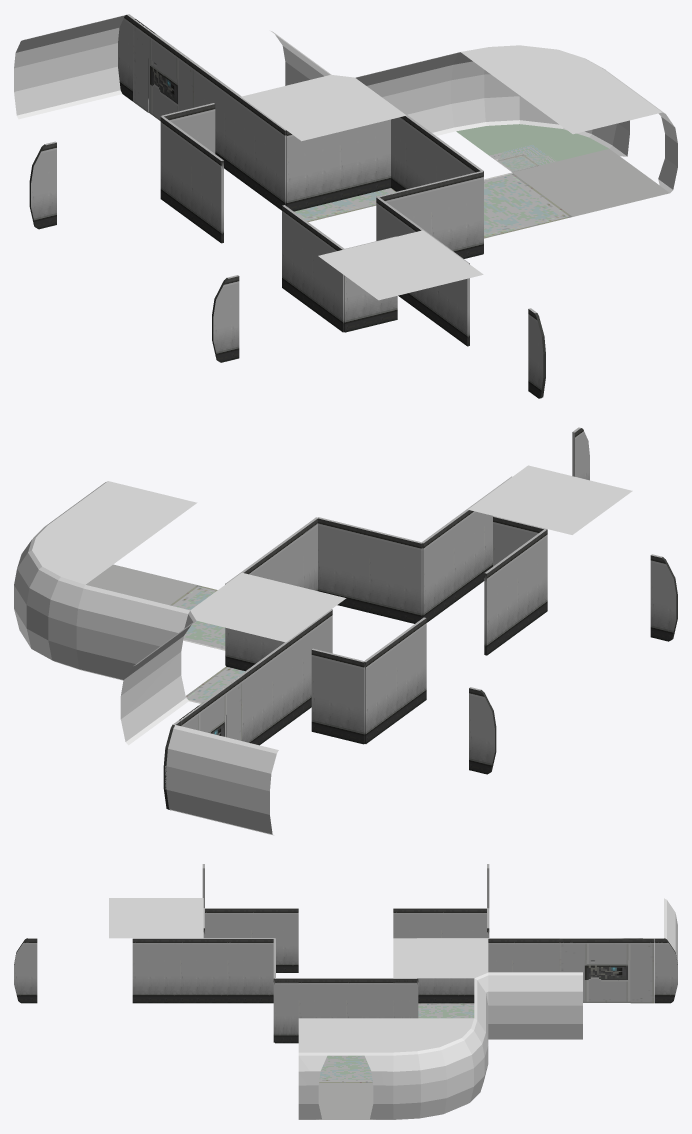
The model's file is works.glb.
3 renders of one model, top to bottom at view 1: azimuth 30°, elevation 25°; view 2: azimuth 150°, elevation 25°; view 3: azimuth 270°, elevation 25°, orthographic. The views are drawn at different scales.
Parts seen in each view (by area): view 1: WallOuter, Roof4x4, RoofWallOuterCorner, FloorWallOuter, Wall Outer Corner, RoofWallOuter, Wall Outer Bend, Wall Inner Door, FloorWallOuterBend, Wall Inner2.010, Wall Inner2.002, RoofWallOuterBend (+24 smaller); view 2: Wall Outer Corner, WallOuter, Roof4x4, RoofWallOuterCorner, Wall Outer Bend, RoofWallOuter, Wall Inner2.012, Wall Inner2.003, Wall Inner2.010, RoofWallOuterBend, Wall Inner2.015, Wall Inner2.019 (+18 smaller); view 3: Wall Outer Corner, Wall Outer Bend, Wall Inner Door, Roof4x4, RoofWallOuterCorner, RoofWallOuter, Wall Outer Open, Wall Inner2.005, Wall Inner2.006, Wall Inner2.004, RoofWallOuterBend, Wall Inner2.015 (+16 smaller).
Boxes of the visible parts, bbox=[...] form: WallOuter: bbox=[14, 15, 125, 119]; Roof4x4: bbox=[318, 230, 483, 300]; RoofWallOuterCorner: bbox=[241, 74, 406, 141]; FloorWallOuter: bbox=[512, 149, 669, 216]; Wall Outer Corner: bbox=[271, 31, 459, 135]; RoofWallOuter: bbox=[512, 68, 662, 134]; Wall Outer Bend: bbox=[451, 52, 616, 148]; Wall Inner Door: bbox=[133, 19, 195, 120]; FloorWallOuterBend: bbox=[456, 124, 608, 172]; Wall Inner2.010: bbox=[430, 171, 483, 258]; Wall Inner2.002: bbox=[286, 130, 339, 211]; RoofWallOuterBend: bbox=[461, 45, 600, 89]; Wall Outer Corner: bbox=[76, 585, 196, 745]; WallOuter: bbox=[165, 724, 278, 835]; Roof4x4: bbox=[468, 465, 632, 534]; RoofWallOuterCorner: bbox=[190, 572, 346, 642]; Wall Outer Bend: bbox=[14, 525, 85, 669]; RoofWallOuter: bbox=[48, 481, 197, 546]; Wall Inner2.012: bbox=[311, 648, 364, 744]; Wall Inner2.003: bbox=[369, 530, 422, 623]; Wall Inner2.010: bbox=[318, 517, 370, 612]; RoofWallOuterBend: bbox=[32, 525, 136, 584]; Wall Inner2.015: bbox=[484, 551, 517, 655]; Wall Inner2.019: bbox=[364, 639, 396, 743]; Wall Outer Corner: bbox=[474, 972, 582, 1044]; Wall Outer Bend: bbox=[393, 1018, 488, 1119]; Wall Inner Door: bbox=[559, 938, 654, 1003]; Roof4x4: bbox=[109, 898, 203, 938]; RoofWallOuterCorner: bbox=[393, 938, 488, 978]; RoofWallOuter: bbox=[298, 1018, 393, 1052]; Wall Outer Open: bbox=[298, 1052, 393, 1119]; Wall Inner2.005: bbox=[180, 938, 227, 1003]; Wall Inner2.006: bbox=[132, 938, 179, 1003]; Wall Inner2.004: bbox=[227, 938, 274, 1003]; RoofWallOuterBend: bbox=[393, 1018, 473, 1052]; Wall Inner2.015: bbox=[251, 908, 298, 972].
Size of the model in its own units: 20 by 3 by 28.
4 materials, 3 textured.
